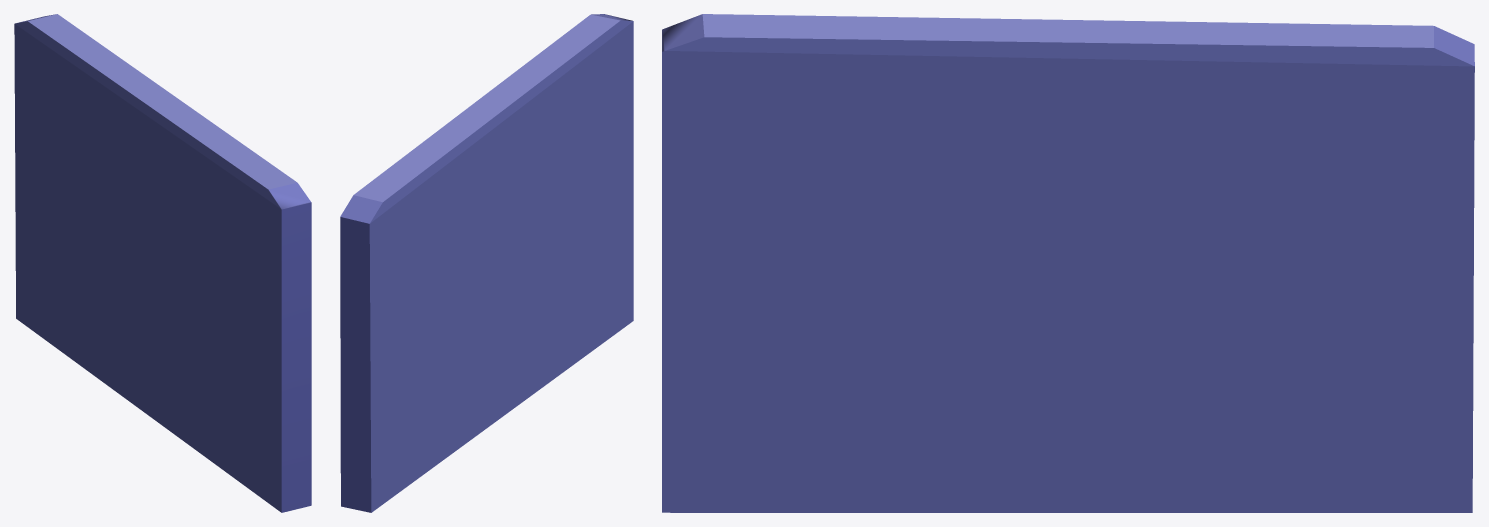
File: RacePlatformDeviderBlue.glb
The picture shows the model from 3 angles, left to right: view 1: azimuth 30°, elevation 25°; view 2: azimuth 150°, elevation 25°; view 3: azimuth 270°, elevation 25°; orthographic projection. The views are drawn at different scales.
Parts seen in each view (by area): view 1: RacePlatformDeviderBlue; view 2: RacePlatformDeviderBlue; view 3: RacePlatformDeviderBlue.
Part boxes in pixels (x1=…): RacePlatformDeviderBlue: x1=14, y1=14, x2=311, y2=512; RacePlatformDeviderBlue: x1=340, y1=14, x2=633, y2=512; RacePlatformDeviderBlue: x1=662, y1=14, x2=1474, y2=512.
Bounding box in the file's own units: 0.0935 × 0.9397 × 1.45.
